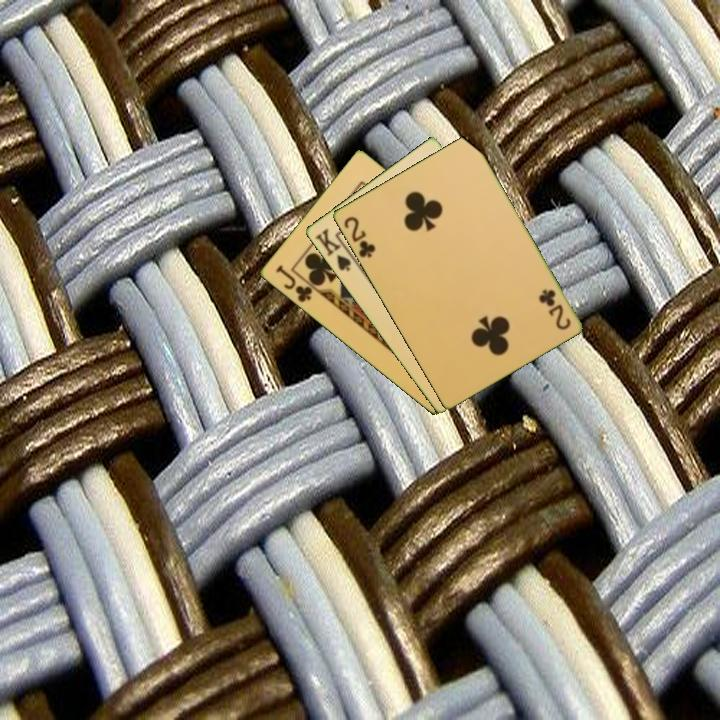2c: (340, 213, 378, 261), (536, 285, 573, 333)
Jc: (272, 261, 321, 305)
Ks: (311, 225, 360, 274)
